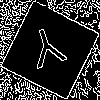Y: (25, 25, 71, 78)
